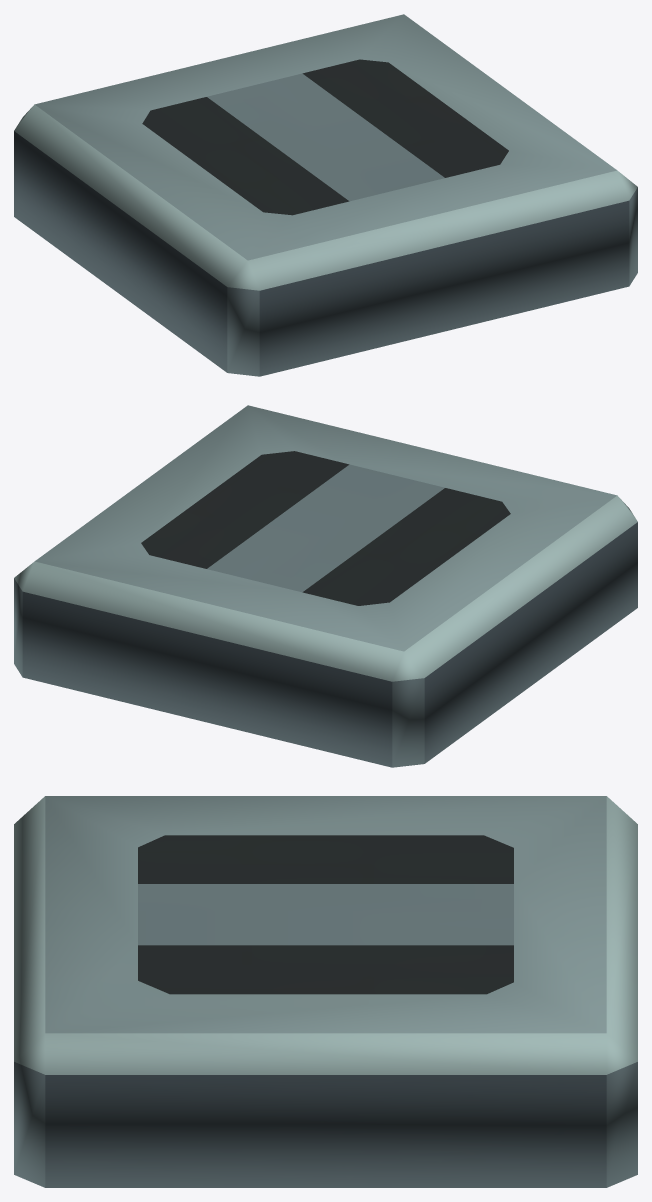
Rendered from drain_small.fbx.
The picture shows the model from 3 angles, top to bottom: view 1: azimuth 30°, elevation 25°; view 2: azimuth 150°, elevation 25°; view 3: azimuth 270°, elevation 25°; orthographic projection. The views are drawn at different scales.
Parts seen in each view (by area): view 1: drain_small; view 2: drain_small; view 3: drain_small.
Boxes of the visible parts, <box> form: drain_small: <box>14,14,637,376</box>; drain_small: <box>14,405,637,767</box>; drain_small: <box>14,796,637,1187</box>.
Size of the model in its own units: 100 by 25 by 100.
